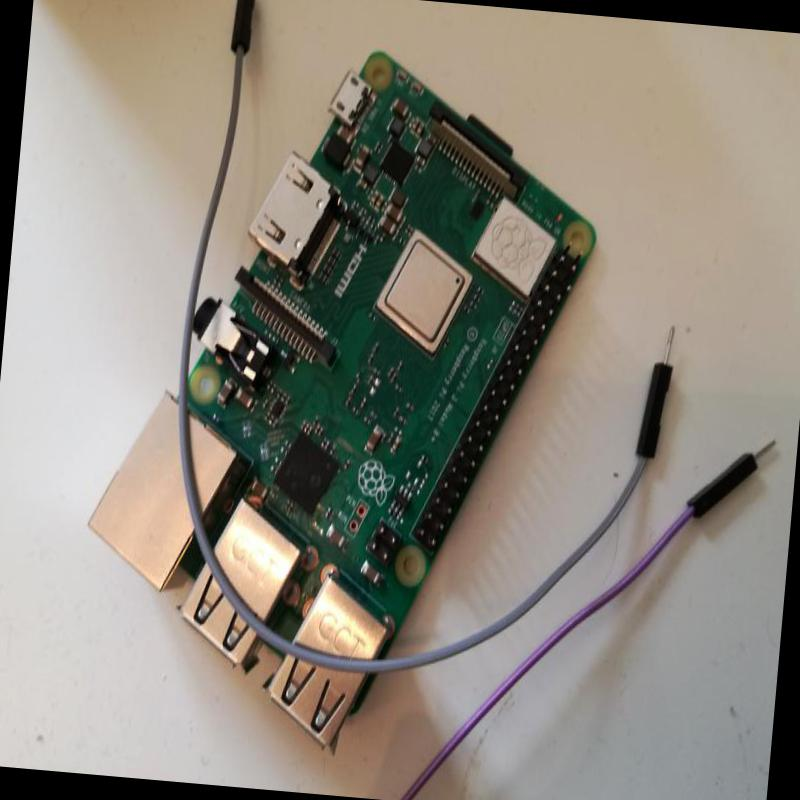Raspberry_Pi_3: (62, 26, 625, 777)
